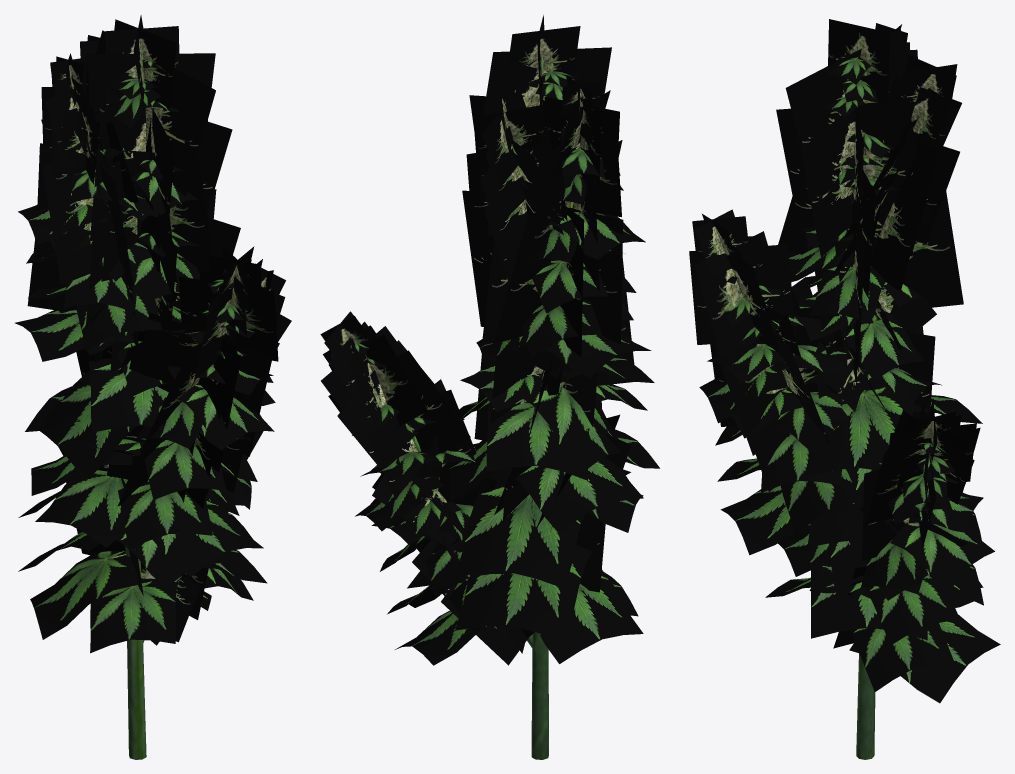
Rendered from hemp.glb.
3 views of the same model, side by side, from view 1: azimuth 30°, elevation 25°; view 2: azimuth 150°, elevation 25°; view 3: azimuth 270°, elevation 25° (orthographic).
Visible parts, largest first — view 1: Plane.004; view 2: Plane.004; view 3: Plane.004.
Boxes of the visible parts, left/top/right/bottom form: Plane.004: left=15, top=15, right=291, bottom=759; Plane.004: left=320, top=15, right=659, bottom=759; Plane.004: left=689, top=19, right=1000, bottom=759.
Bounding box in the file's own units: 0.6909 × 1.66 × 0.6425.
Materials: 1 (1 with a texture image).
